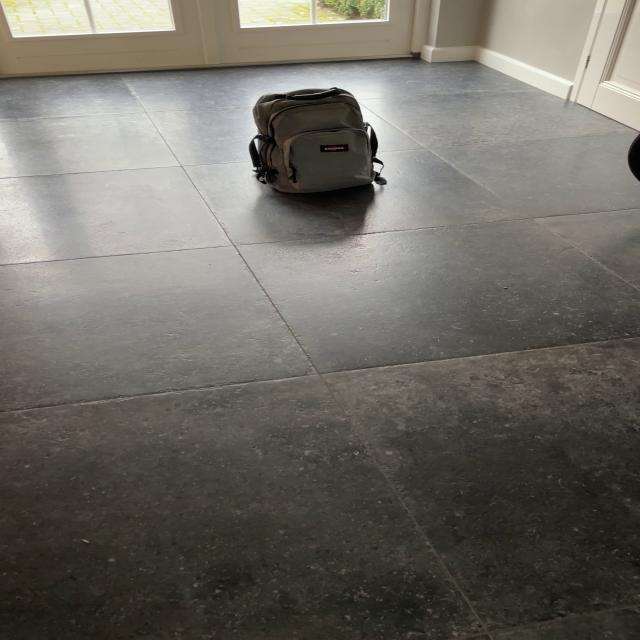backpack: (242, 83, 387, 198)
